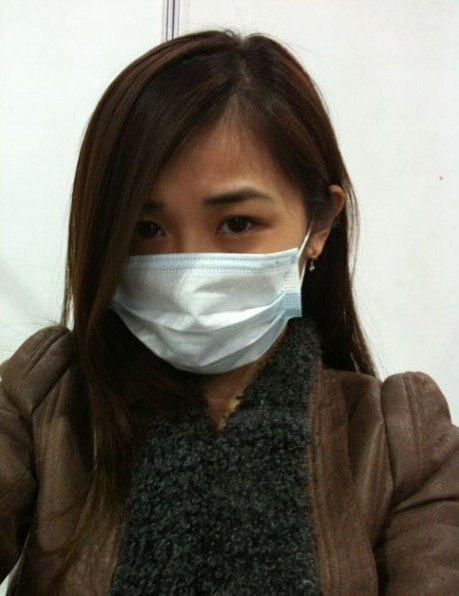face_mask: (109, 110, 302, 372)
